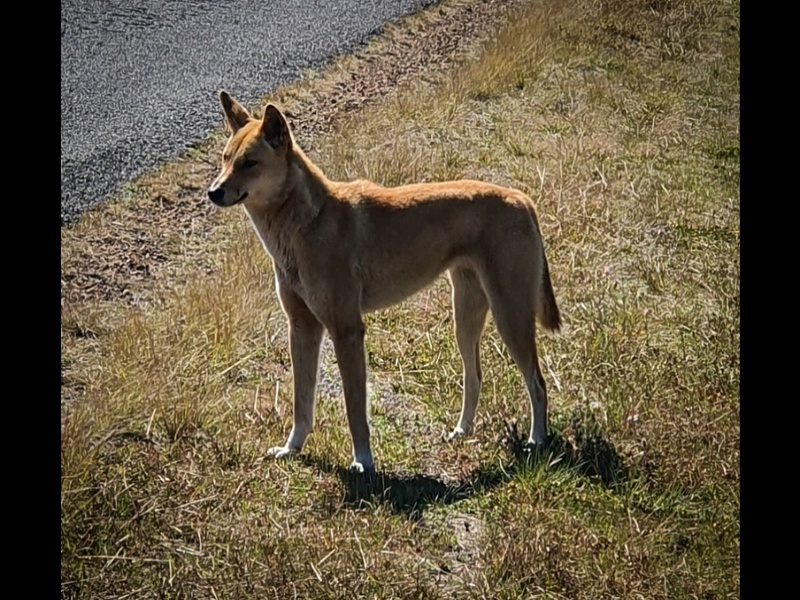dog: (210, 85, 571, 475)
